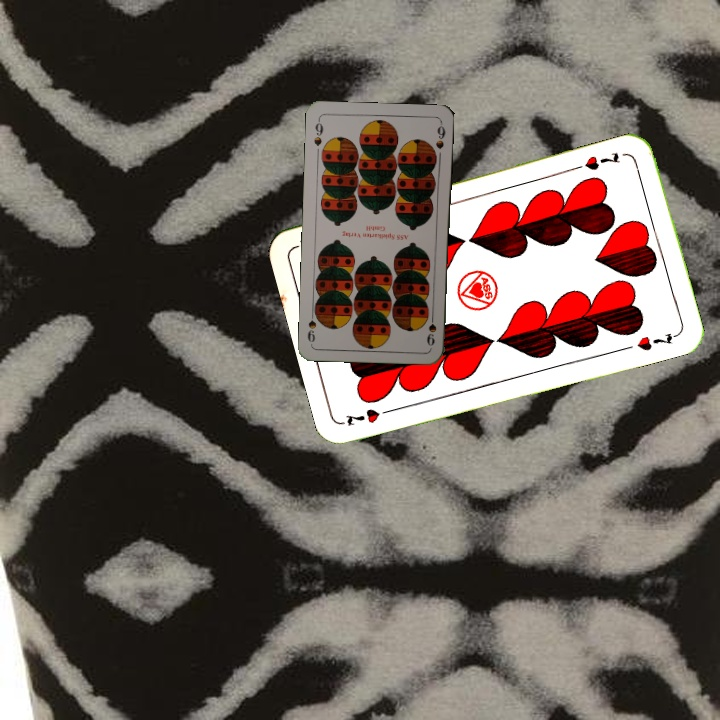H7: (341, 404, 398, 429), (580, 148, 623, 173)
S9: (423, 308, 439, 348), (310, 116, 325, 148)
